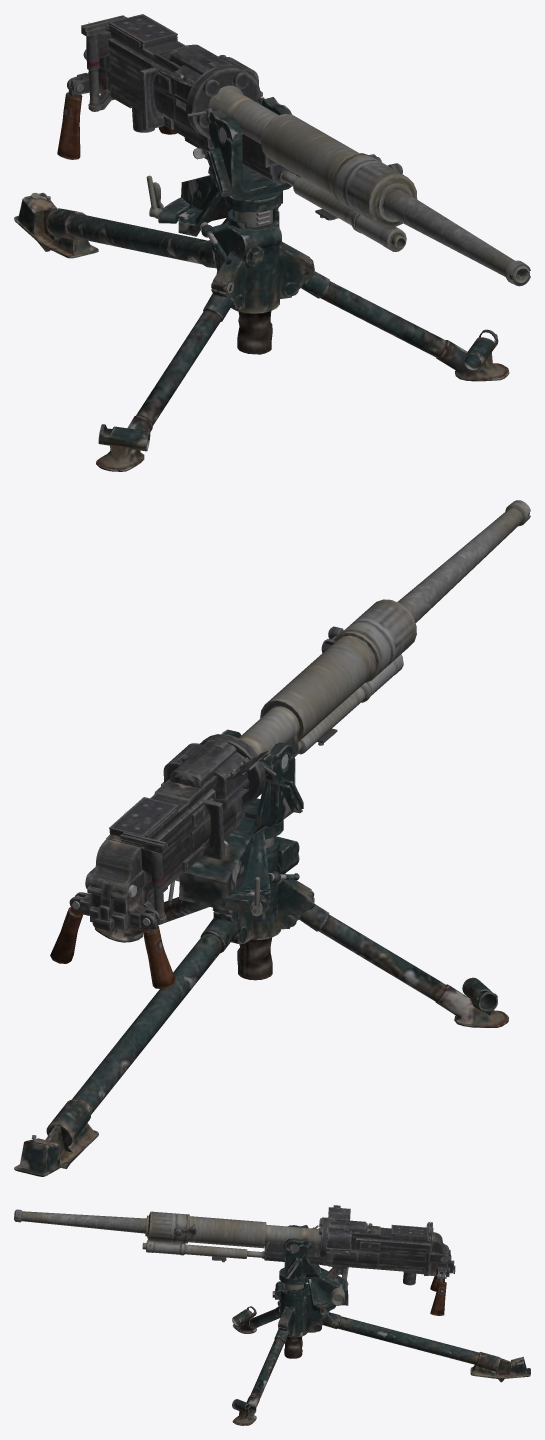
File: 92式重机枪.FBX
3 views of the same model, one above another, from view 1: azimuth 30°, elevation 25°; view 2: azimuth 150°, elevation 25°; view 3: azimuth 270°, elevation 25° (orthographic). The views are drawn at different scales.
Parts seen in each view (by area): view 1: 92式重机枪; view 2: 92式重机枪; view 3: 92式重机枪.
Part boxes in pixels (box(x1,y1,x2,y2)): 92式重机枪: box(14, 14, 530, 471); 92式重机枪: box(14, 500, 530, 1176); 92式重机枪: box(14, 1205, 530, 1425).
Size of the model in its own units: 0.6343 by 0.4832 by 1.33.
